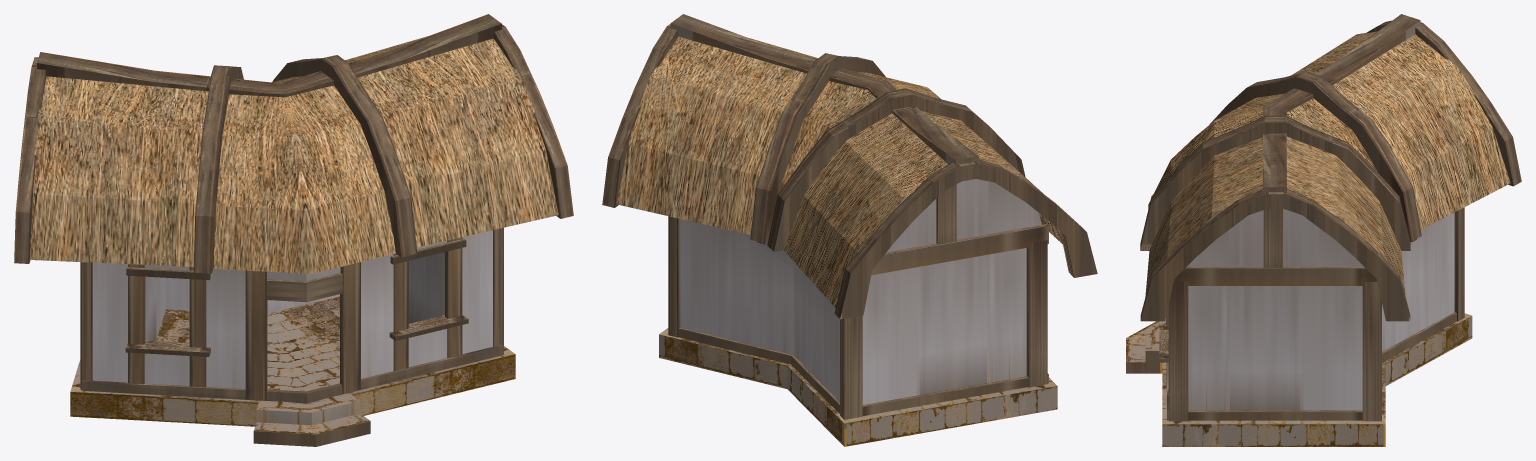
The model's file is medieval house2.fbx.
The picture shows the model from 3 angles, left to right: view 1: azimuth 30°, elevation 25°; view 2: azimuth 150°, elevation 25°; view 3: azimuth 270°, elevation 25°; orthographic projection. The views are drawn at different scales.
Visible parts, largest first — view 1: house_Cube.026; view 2: house_Cube.026; view 3: house_Cube.026.
Part boxes in pixels (box(x1,y1,x2,y2)): house_Cube.026: box(14, 14, 573, 446); house_Cube.026: box(602, 14, 1097, 446); house_Cube.026: box(1126, 14, 1521, 446).
Bounding box in the file's own units: 560 × 348 × 449.
